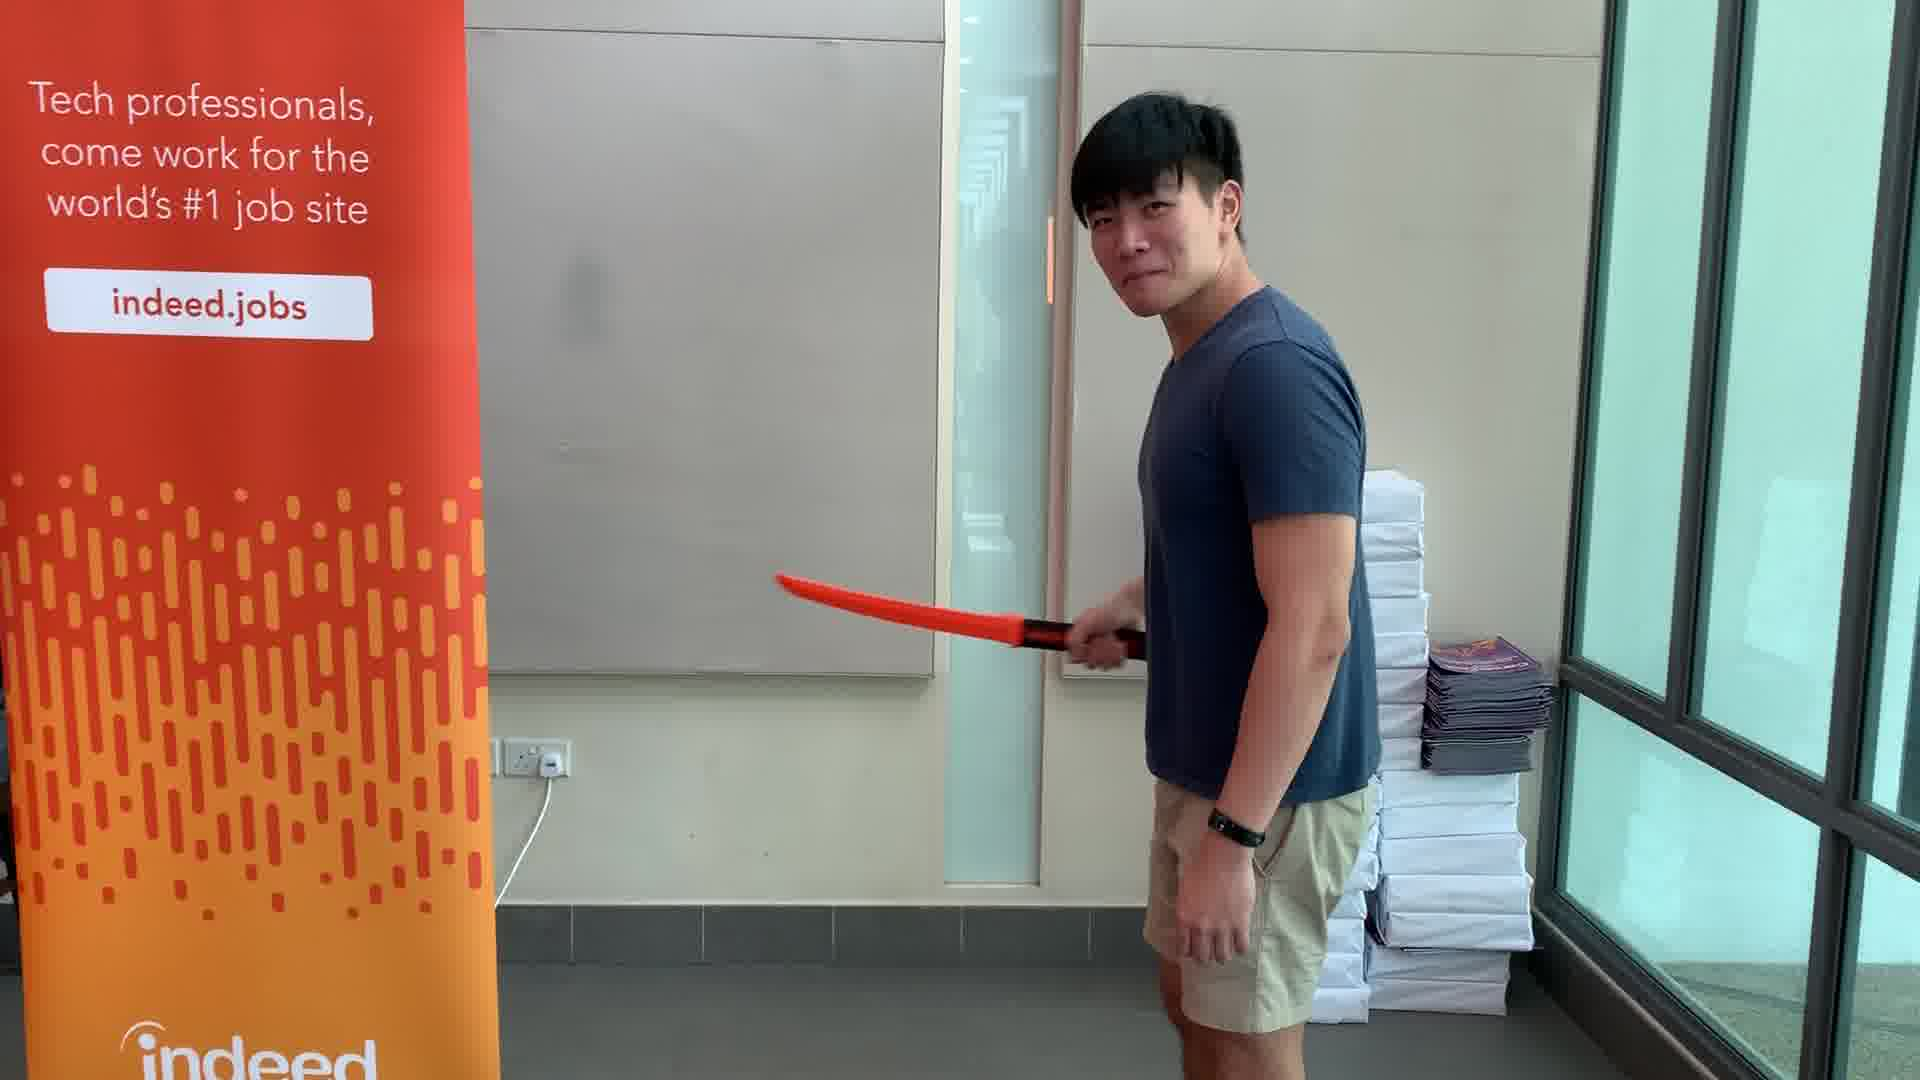knife: (766, 568, 1164, 666)
